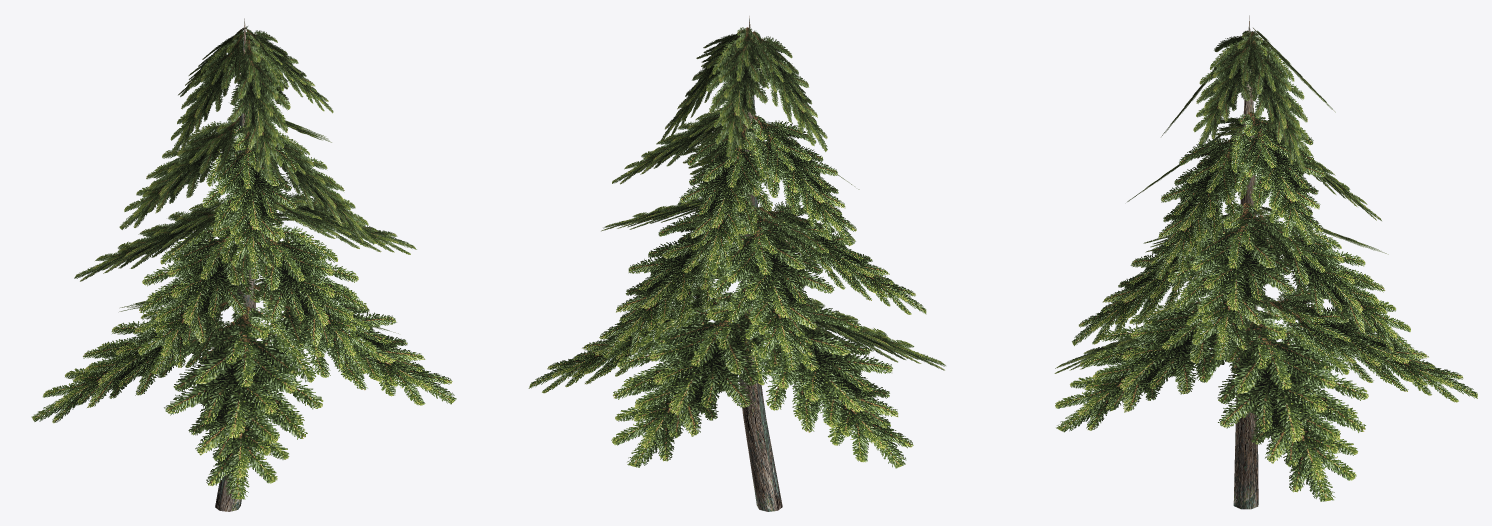
The model's file is fp_spruce_3.glb.
3 renders of one model, left to right at view 1: azimuth 30°, elevation 25°; view 2: azimuth 150°, elevation 25°; view 3: azimuth 270°, elevation 25°, orthographic. The views are drawn at different scales.
Visible parts, largest first — view 1: _MeshInstance3D_43, _MeshInstance3D_42; view 2: _MeshInstance3D_43, _MeshInstance3D_42; view 3: _MeshInstance3D_43, _MeshInstance3D_42.
Part boxes in pixels (x1=…): _MeshInstance3D_43: x1=31, y1=26, x2=456, y2=499; _MeshInstance3D_42: x1=215, y1=18, x2=256, y2=511; _MeshInstance3D_43: x1=528, y1=27, x2=945, y2=468; _MeshInstance3D_42: x1=739, y1=16, x2=782, y2=511; _MeshInstance3D_43: x1=1054, y1=28, x2=1477, y2=501; _MeshInstance3D_42: x1=1233, y1=15, x2=1258, y2=509.
Size of the model in its own units: 1.88 by 2.14 by 1.81.
Materials: 2 (2 with a texture image).
